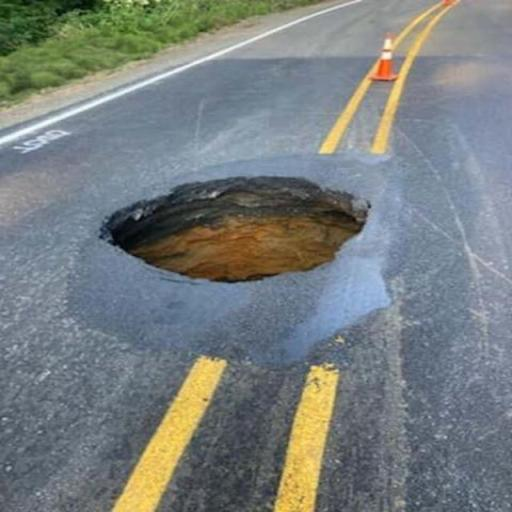Concentric_Crack: (101, 177, 371, 282)
